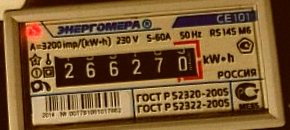0: (175, 54, 189, 72)
2: (61, 61, 75, 80), (129, 57, 142, 76)
6: (84, 60, 97, 79), (107, 60, 120, 78)
7: (152, 55, 165, 74)
screen: (42, 36, 209, 97)
